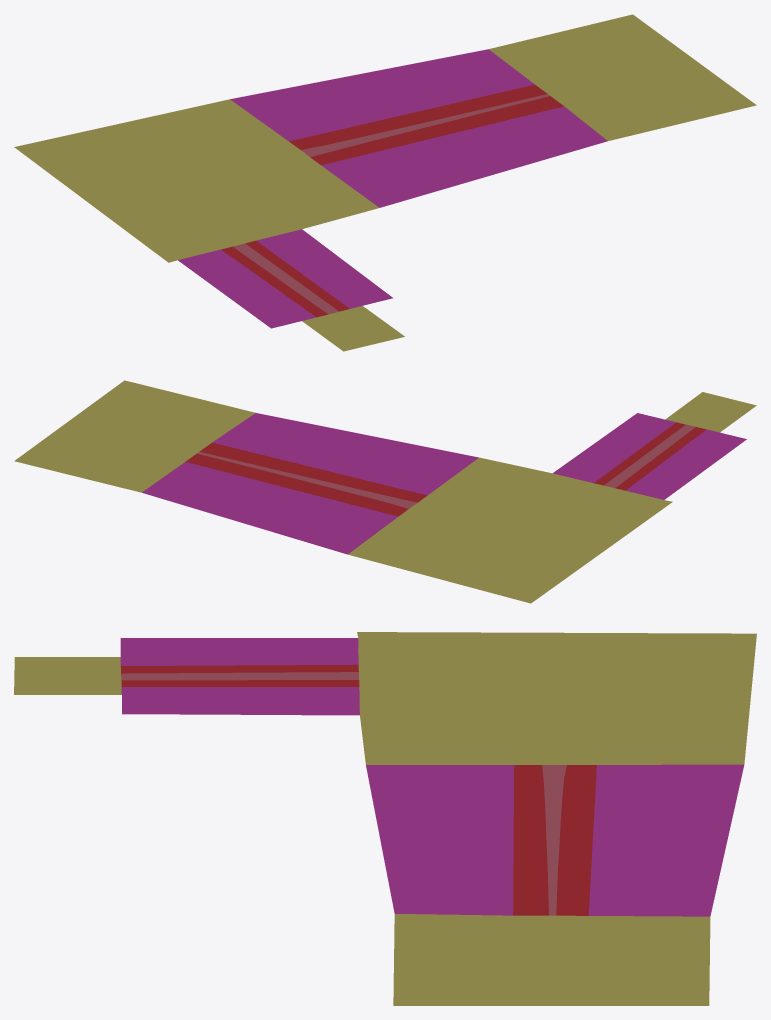
Rendered from Advertising-Hell-Layout-V1-World-Whitebox.fbx.
The picture shows the model from 3 angles, top to bottom: view 1: azimuth 30°, elevation 25°; view 2: azimuth 150°, elevation 25°; view 3: azimuth 270°, elevation 25°; orthographic projection. The views are drawn at different scales.
Parts seen in each view (by area): view 1: Advertising-Hell-Plane; view 2: Advertising-Hell-Plane; view 3: Advertising-Hell-Plane.
Part boxes in pixels (x1,y1,x2,y2): Advertising-Hell-Plane: (14,14,756,351); Advertising-Hell-Plane: (14,380,756,603); Advertising-Hell-Plane: (14,632,756,1005).
Bounding box in the file's own units: 35345 × 0 × 29676.
